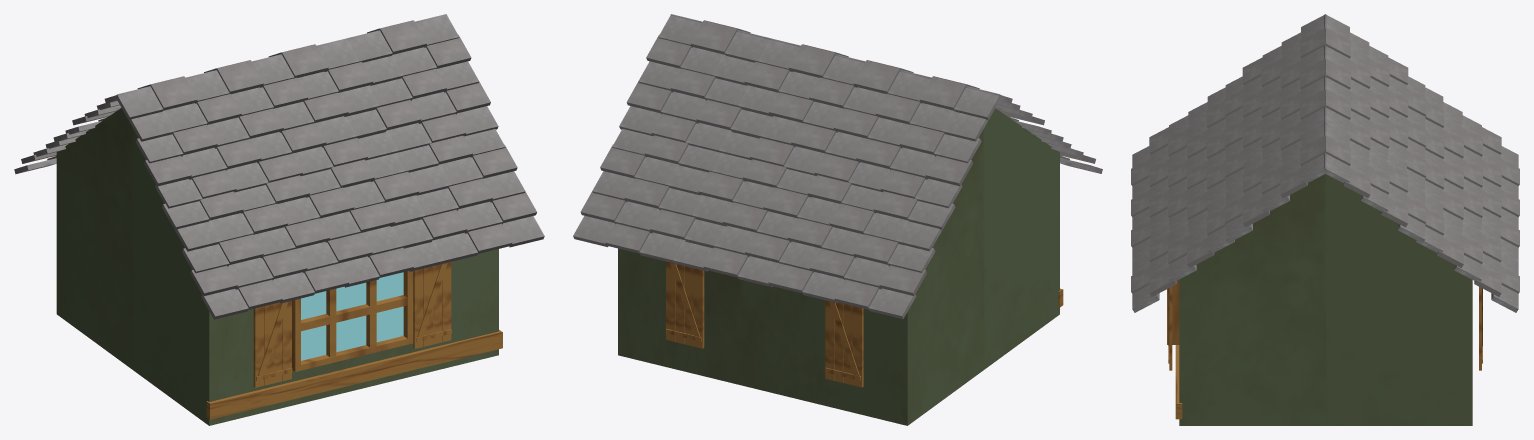
File: House2.fbx
3 views of the same model, side by side, from view 1: azimuth 30°, elevation 25°; view 2: azimuth 150°, elevation 25°; view 3: azimuth 270°, elevation 25° (orthographic). The views are drawn at different scales.
Visible parts, largest first — view 1: polySurface885; view 2: polySurface885; view 3: polySurface885.
Boxes of the visible parts, x1,y1,x2,y2 form: polySurface885: (14, 14, 544, 425); polySurface885: (573, 14, 1102, 425); polySurface885: (1131, 14, 1519, 425).
Size of the model in its own units: 1.95 by 1.56 by 2.04.
